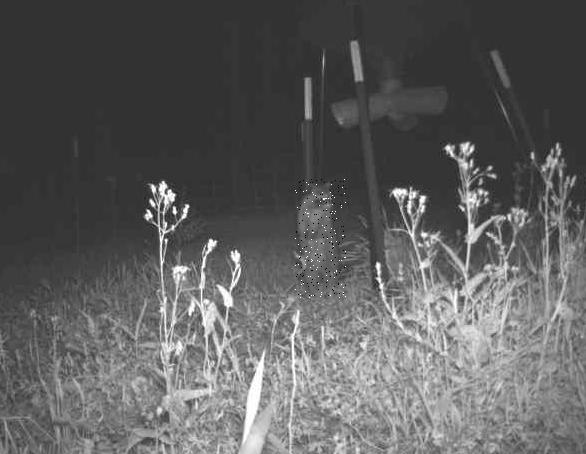Raccoon: (296, 179, 347, 298)
